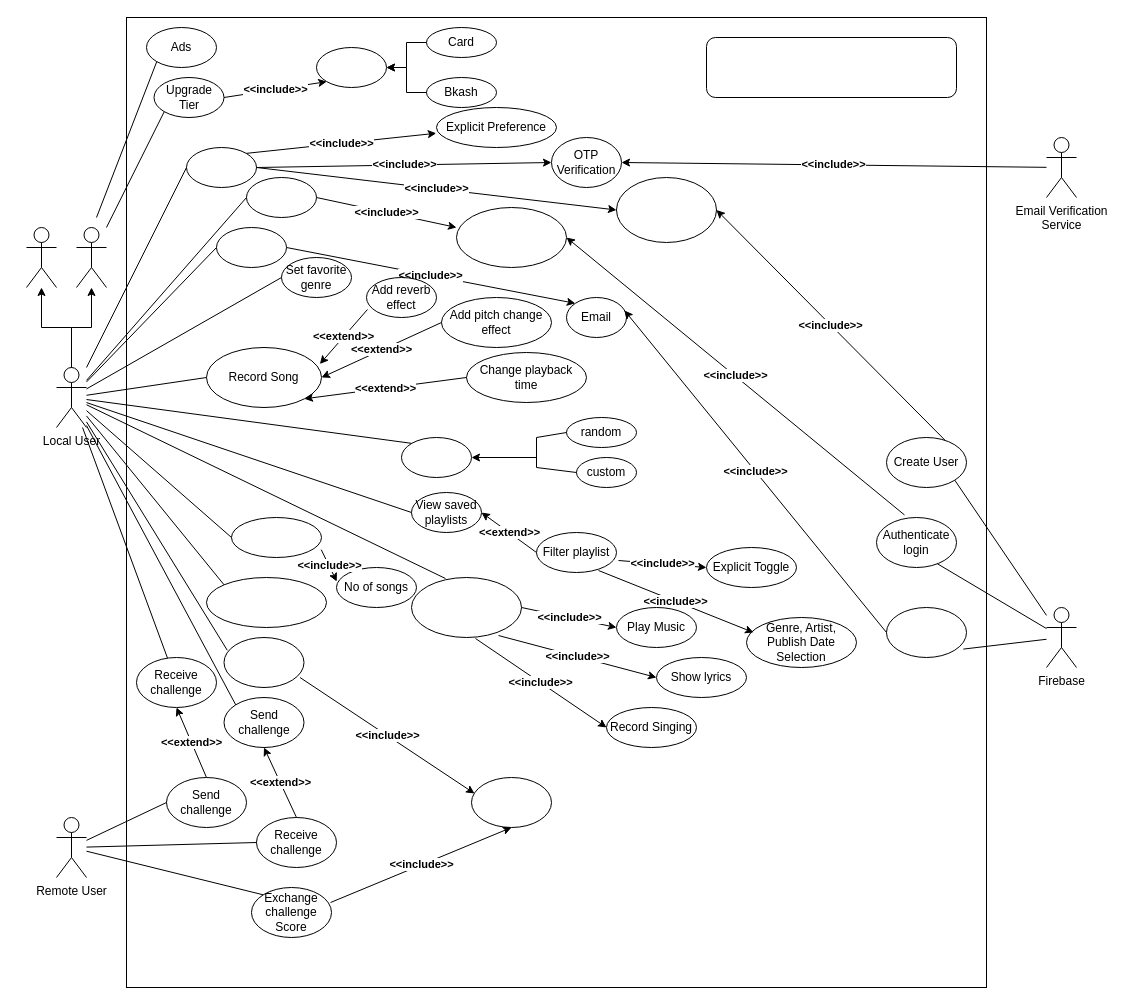
This 1125x1005 diagram has some shape labels left out. The shapes that lost their labels are listed below. From the top down, each one's centre as x and y in pixels, then its label:
At (351,67): "Payment".
At (831,67): "Use Case Diagram".
At (221,167): "Sign Up".
At (281,197): "Login".
At (666,209): "Name, Email, Password, Age".
At (41,257): "Premium".
At (91,257): "Free".
At (251,247): "Reset Password".
At (511,237): "Email, Password".
At (436,457): "Create playlist".
At (276,537): "Create competetion".
At (266,602): "View competition records".
At (466,607): "Start Karaoke Mode".
At (926,632): "Send Reset Email".
At (263,662): "calculate Score".
At (511,802): "Save challenge Result".
